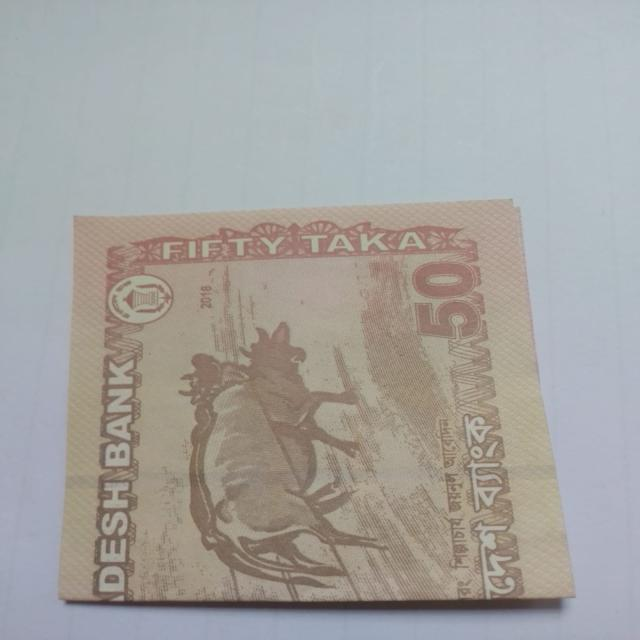Taka: (67, 188, 597, 609)
